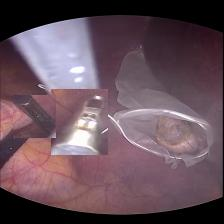Grasper: (51, 88, 108, 154), (13, 94, 56, 136)
Specimen Bag: (107, 44, 224, 172)
